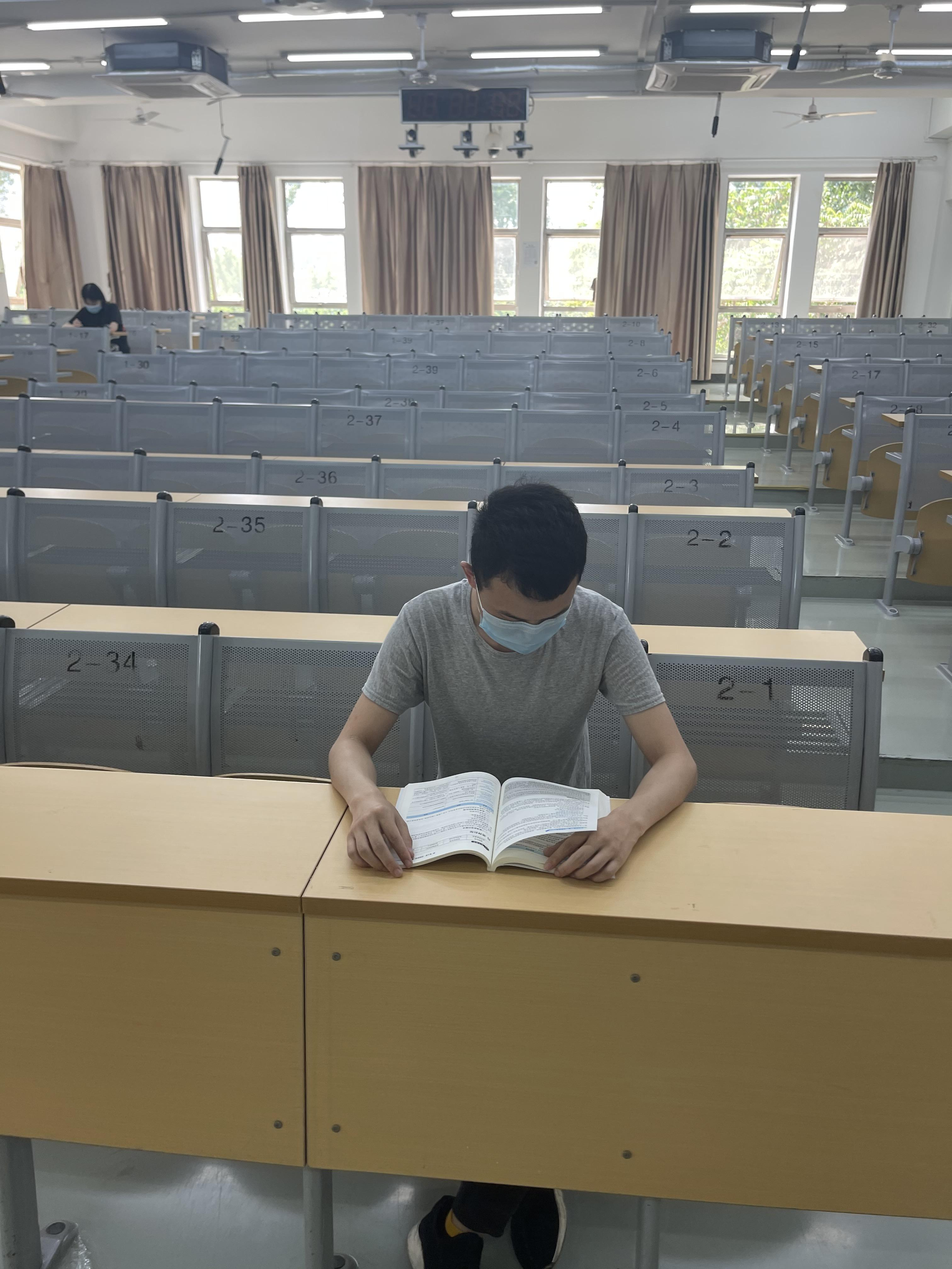study: (329, 482, 701, 887)
